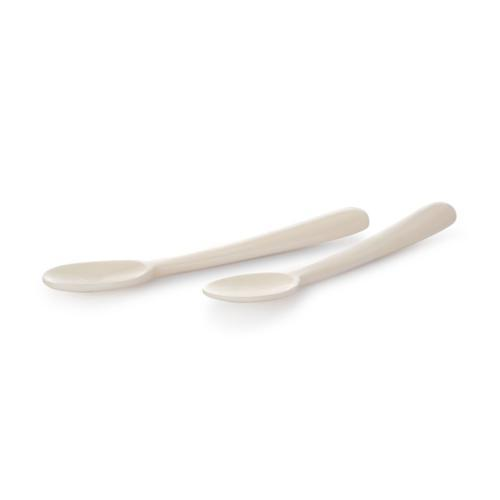Spoon: (42, 207, 369, 293), (202, 202, 456, 303)
